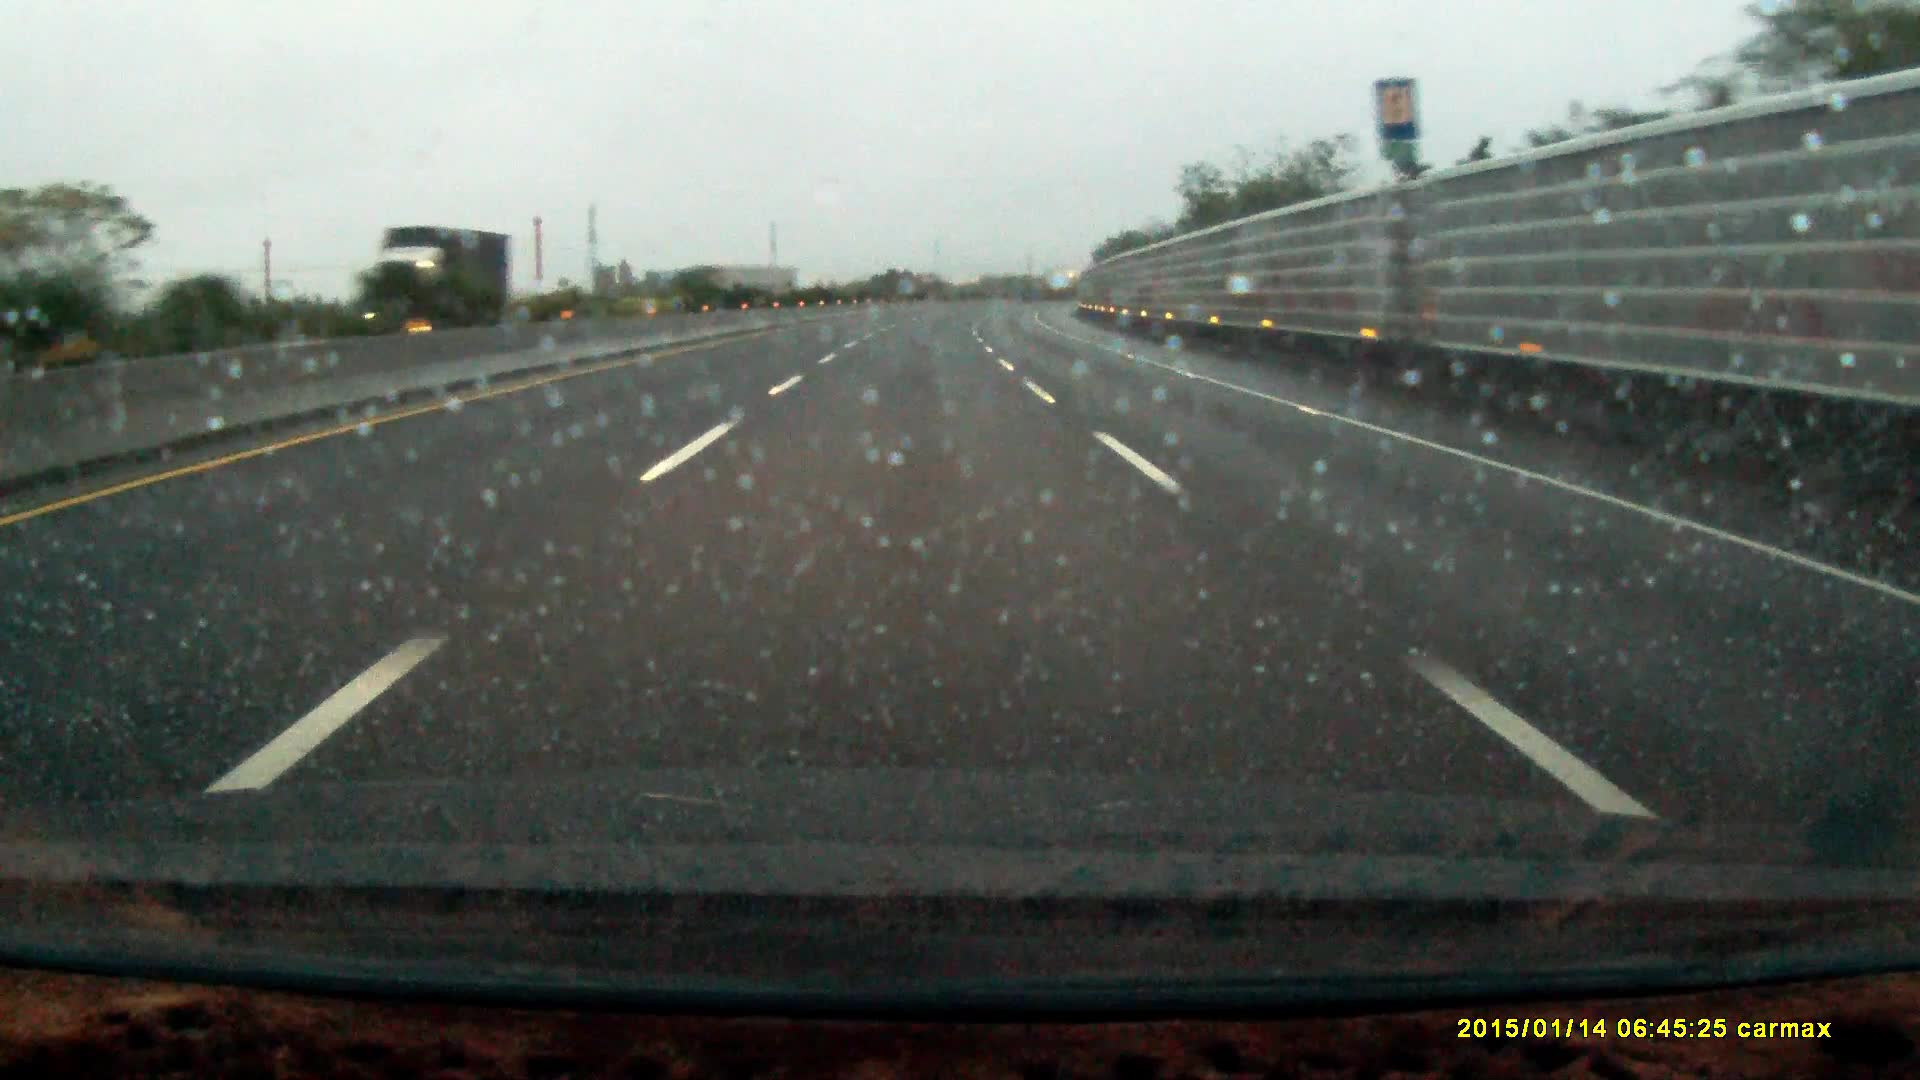vehicle: (363, 224, 516, 332)
